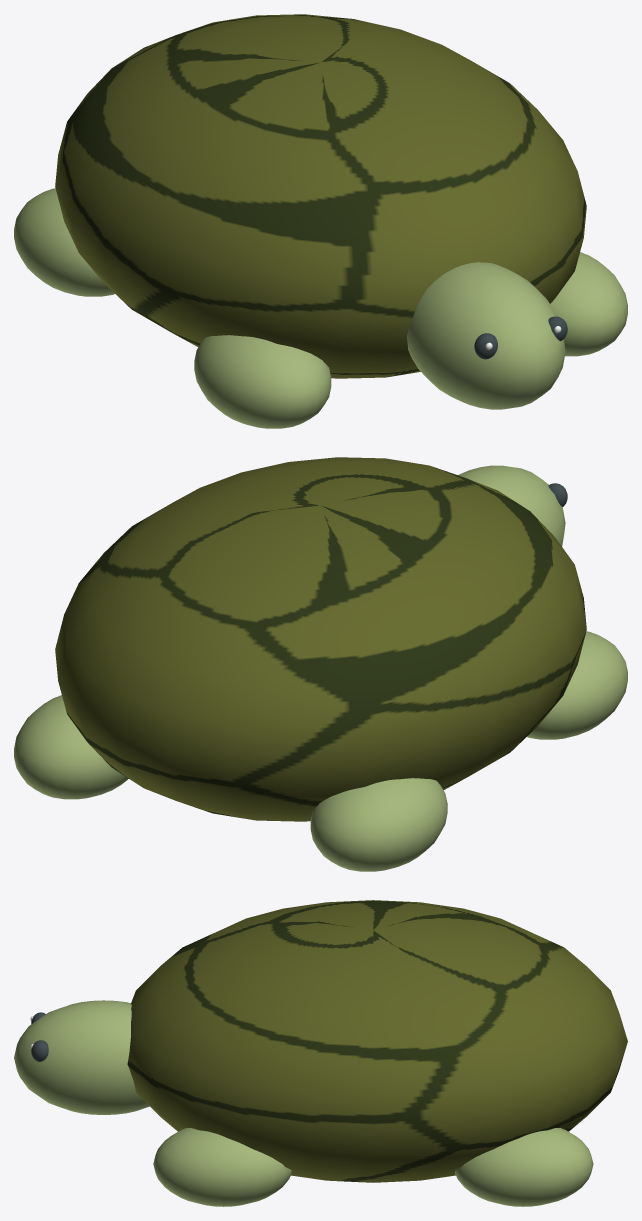
File: city-tortoise.glb
3 views of the same model, one above another, from view 1: azimuth 30°, elevation 25°; view 2: azimuth 150°, elevation 25°; view 3: azimuth 270°, elevation 25° (orthographic). The views are drawn at different scales.
Visible parts, largest first — view 1: Animal_tortoise; view 2: Animal_tortoise; view 3: Animal_tortoise.
Boxes of the visible parts, <box> form: Animal_tortoise: <box>14,14,627,428</box>; Animal_tortoise: <box>14,457,627,871</box>; Animal_tortoise: <box>14,900,627,1206</box>.
Bounding box in the file's own units: 2.8 × 1.64 × 4.1.
Materials: 4 (1 with a texture image).
